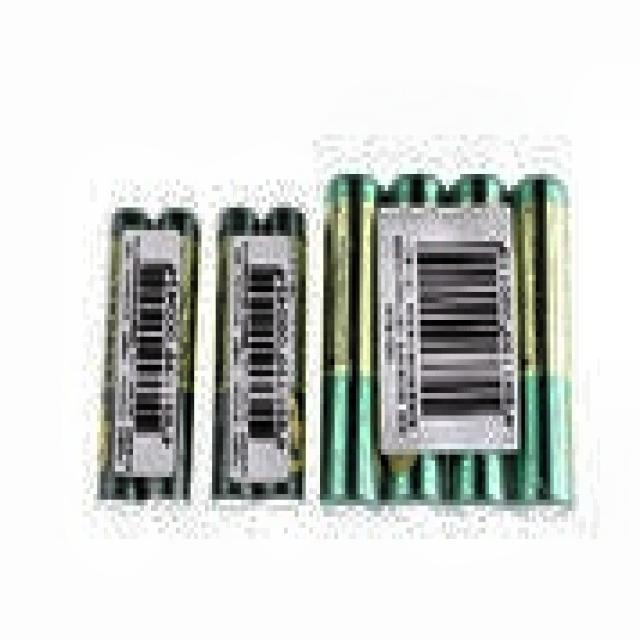Non-Valuable Waste - Batteries: (324, 174, 570, 502), (103, 209, 197, 496), (213, 207, 306, 497)
